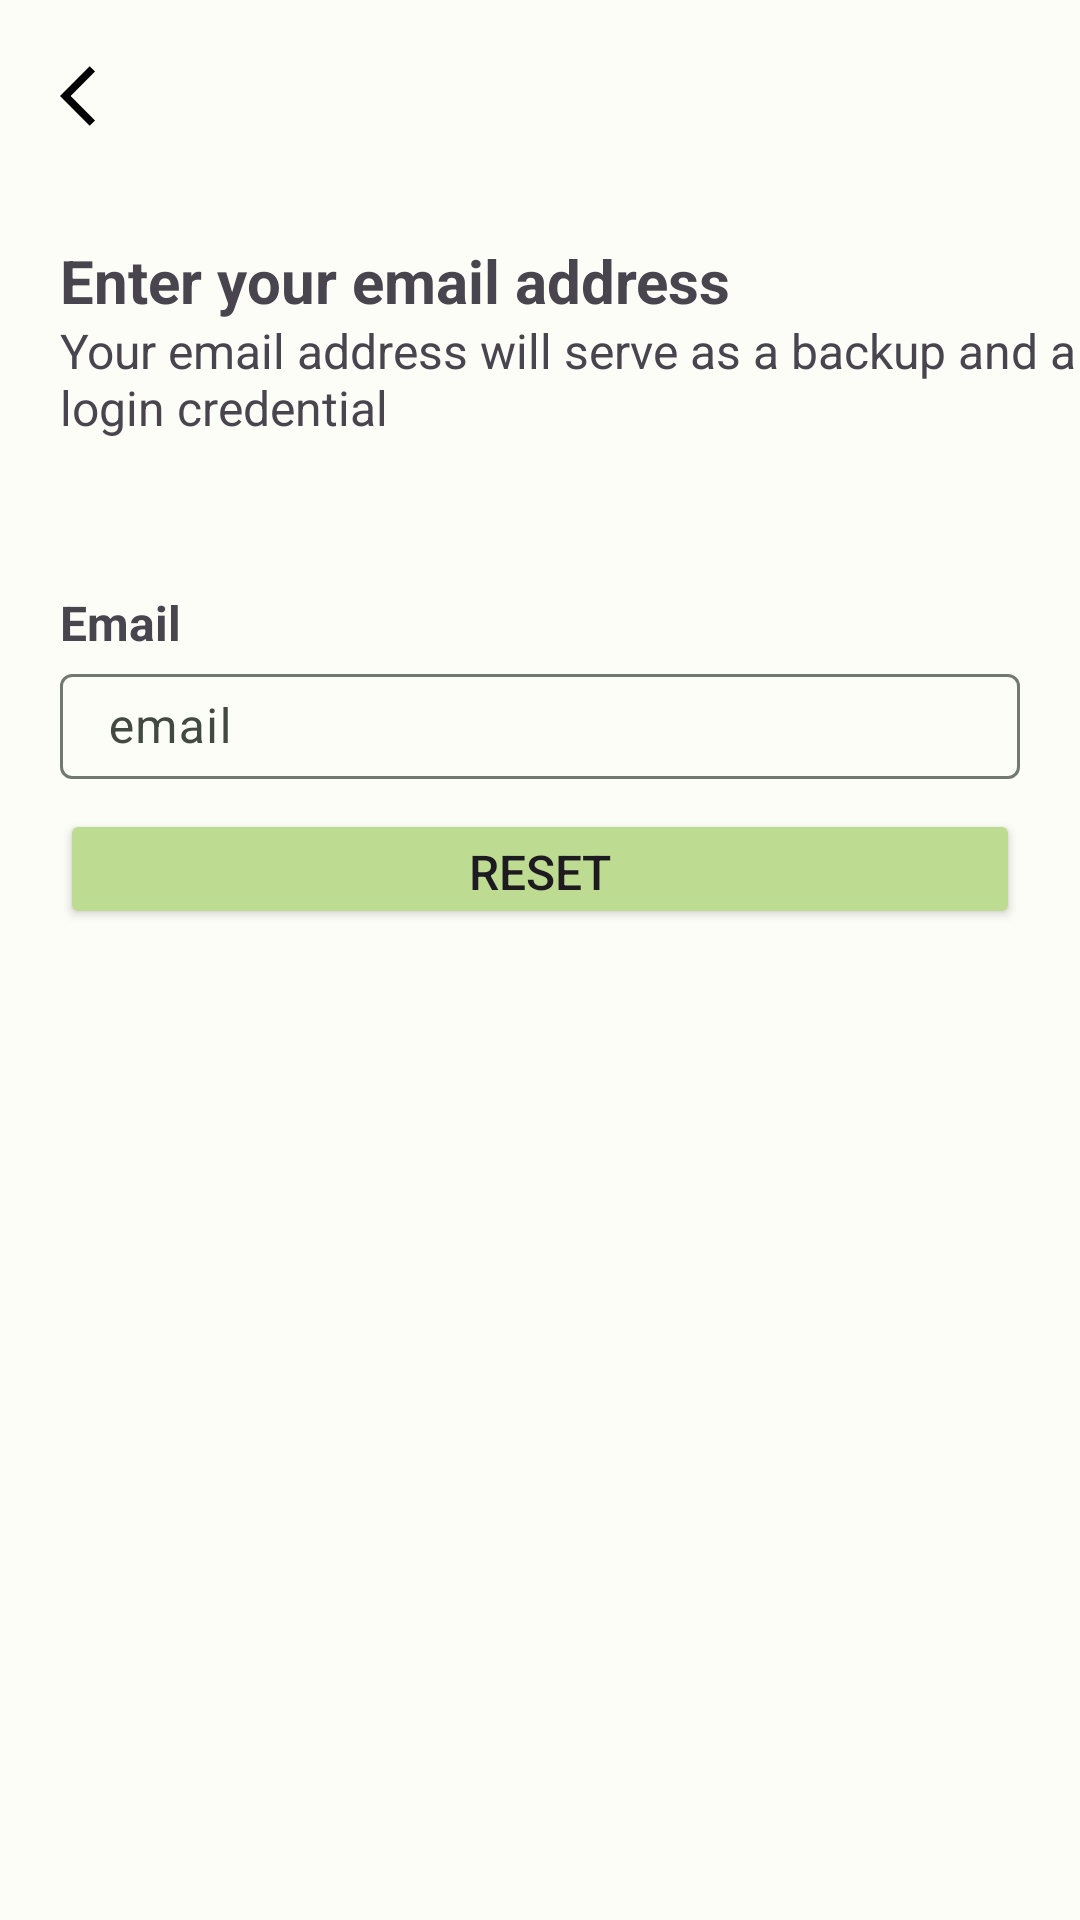

Screen size 1080 × 1920. Icon name, then its center in pixels as (x,y):
arrow back: (77,96)
